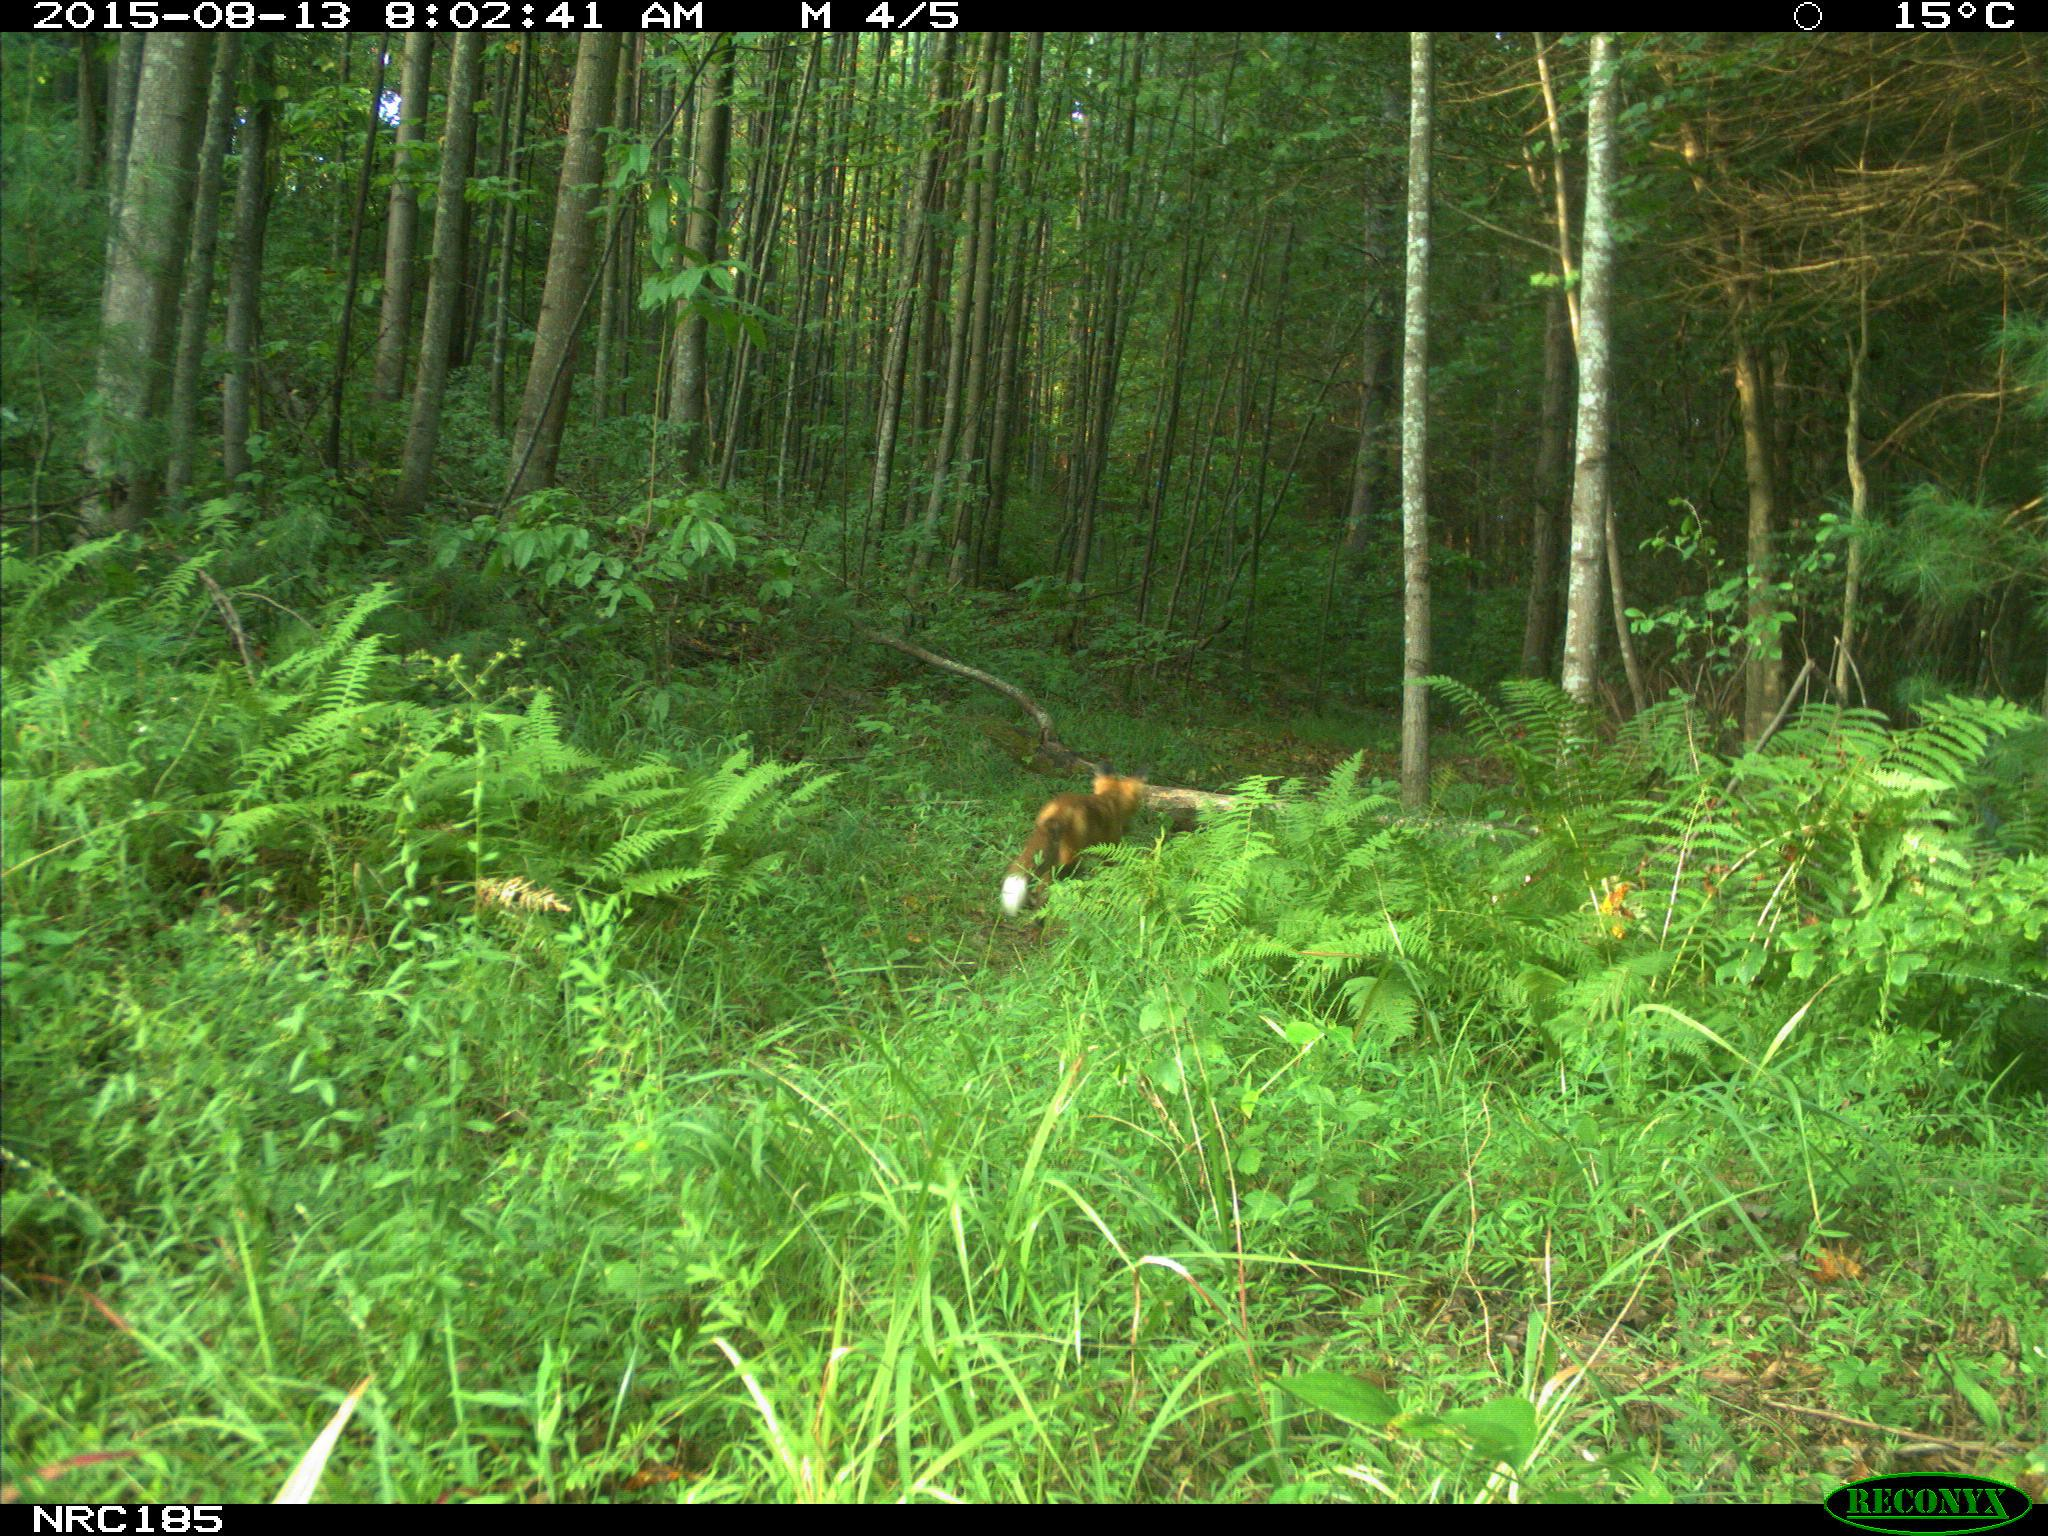Animal: (1001, 757, 1150, 920)
